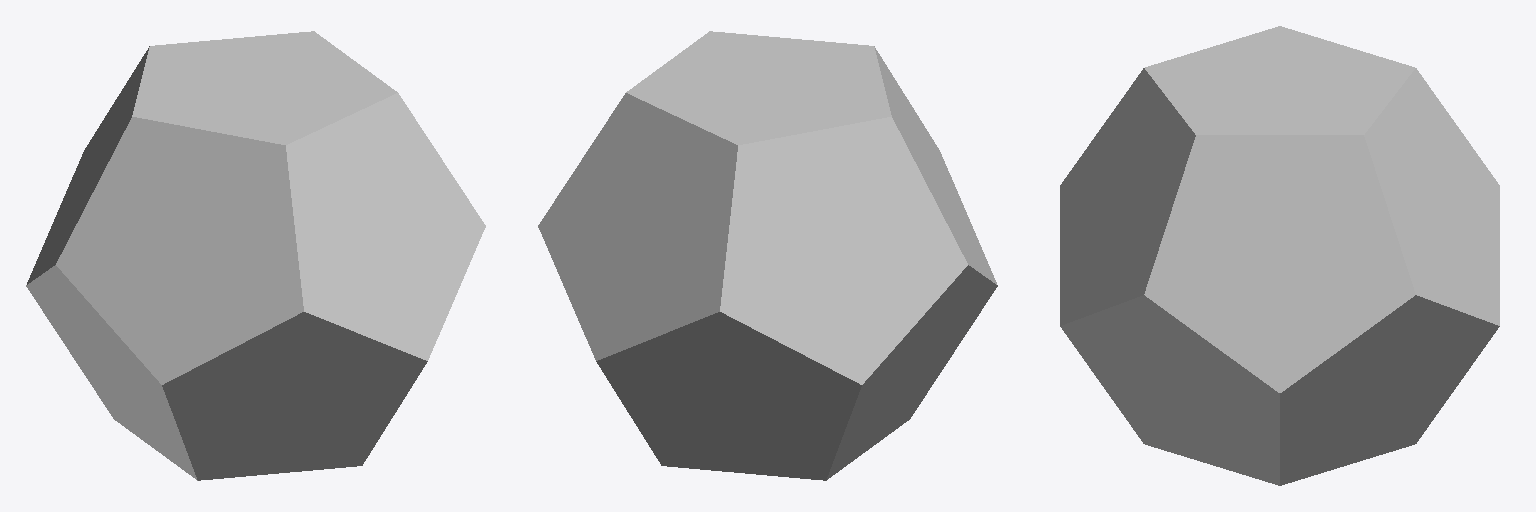
File: dodecahedron.obj
The picture shows the model from 3 angles: view 1: azimuth 30°, elevation 25°; view 2: azimuth 150°, elevation 25°; view 3: azimuth 270°, elevation 25°; orthographic projection.
Visible parts, largest first — view 1: Icosphere; view 2: Icosphere; view 3: Icosphere.
Boxes of the visible parts, x1=… form: Icosphere: x1=26, y1=31, x2=485, y2=480; Icosphere: x1=538, y1=31, x2=997, y2=480; Icosphere: x1=1060, y1=26, x2=1499, y2=485.
Bounding box in the file's own units: 1.56 × 1.26 × 1.48.